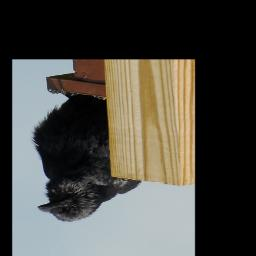Crow: (30, 89, 140, 223)
